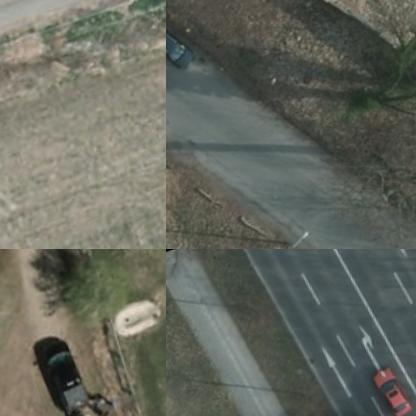car: (43, 345, 95, 415), (375, 367, 415, 415), (166, 15, 197, 75)
